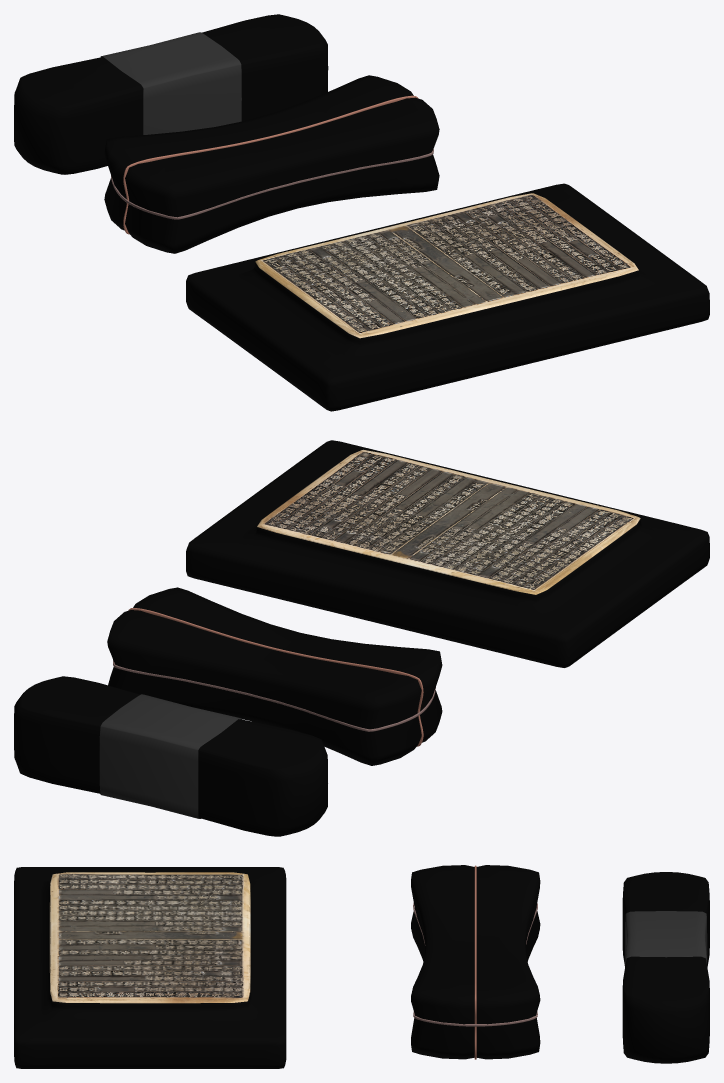
Rendered from metal type1.fbx.
3 renders of one model, top to bottom at view 1: azimuth 30°, elevation 25°; view 2: azimuth 150°, elevation 25°; view 3: azimuth 270°, elevation 25°, orthographic. The views are drawn at different scales.
Visible parts, largest first — view 1: Cube, Cube.001, Cube.002, Cube.004, Cube.003, Plane.001; view 2: Cube, Cube.001, Cube.002, Cube.004, Cube.003, Plane.001; view 3: Cube, Cube.001, Cube.002, Cube.004, Cube.003, Plane.001.
Part boxes in pixels (x1,y1,x2,y2): Cube: [186, 183, 709, 411]; Cube.001: [104, 75, 439, 253]; Cube.002: [14, 14, 328, 174]; Cube.004: [100, 32, 241, 134]; Cube.003: [123, 95, 418, 234]; Plane.001: [111, 149, 433, 219]; Cube: [186, 440, 709, 667]; Cube.001: [107, 587, 442, 765]; Cube.002: [14, 676, 327, 836]; Cube.004: [99, 694, 241, 818]; Cube.003: [128, 608, 423, 746]; Plane.001: [113, 660, 435, 731]; Cube: [14, 867, 286, 1068]; Cube.001: [411, 865, 540, 1059]; Cube.002: [622, 872, 709, 1063]; Cube.004: [625, 911, 707, 964]; Cube.003: [474, 865, 476, 1059]; Plane.001: [413, 903, 537, 1026].
Size of the model in its own units: 8229 by 1587 by 13870.
Materials: 6 (1 with a texture image).
